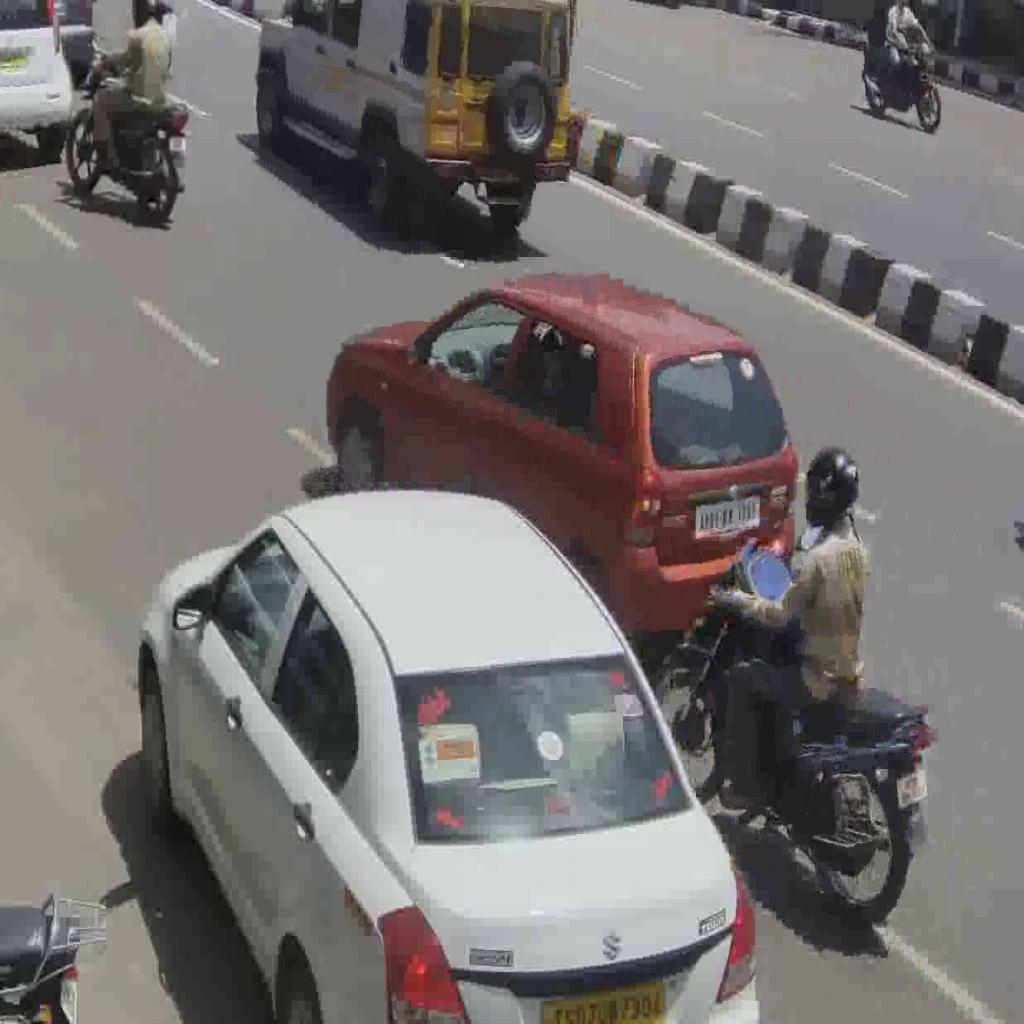helmet: (646, 548, 939, 930), (64, 48, 190, 226)
